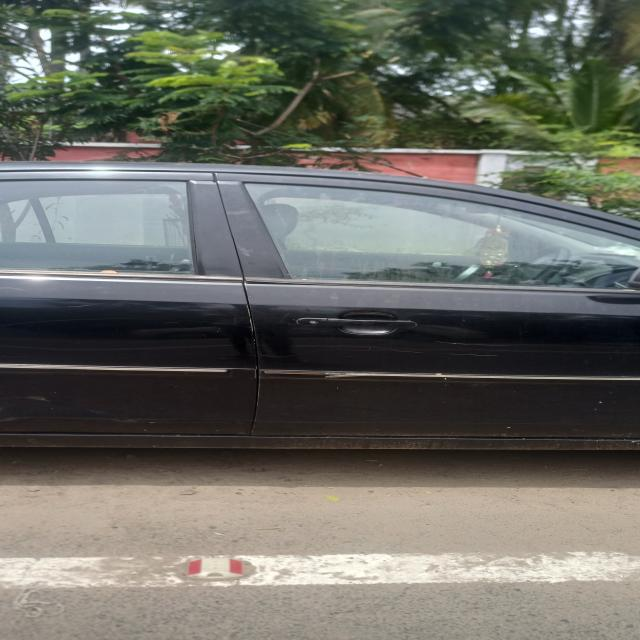scratch: (3, 412, 639, 432), (263, 348, 509, 359), (432, 338, 543, 347), (260, 327, 337, 334)
